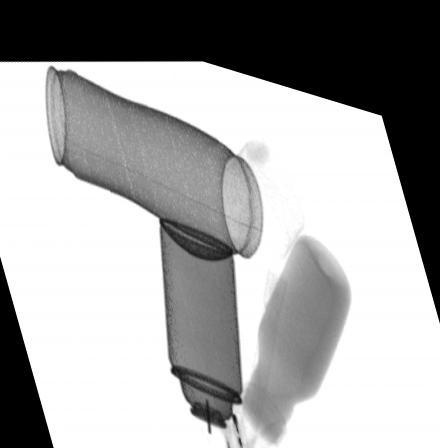Lighter: (209, 390, 249, 448)
Sprayer: (157, 208, 242, 448)
